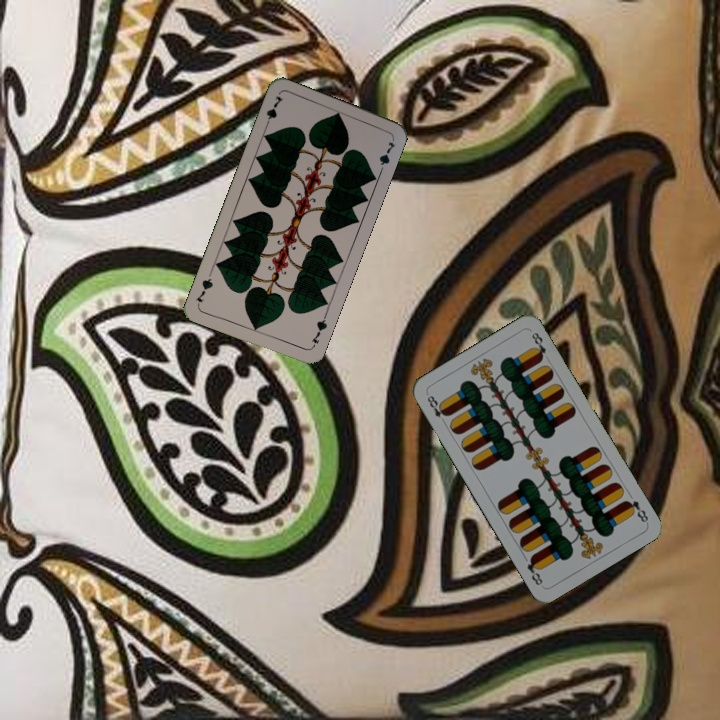E8: (423, 390, 451, 427), (621, 496, 651, 525)
G7: (261, 91, 286, 131), (307, 311, 330, 351)
